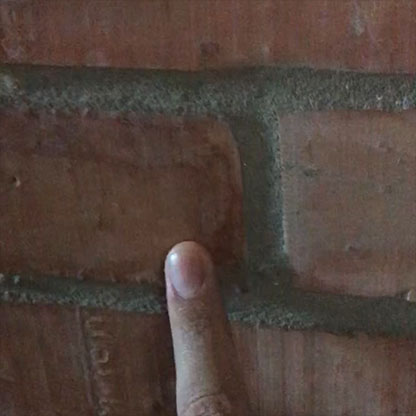fingertip: (157, 238, 232, 314)
